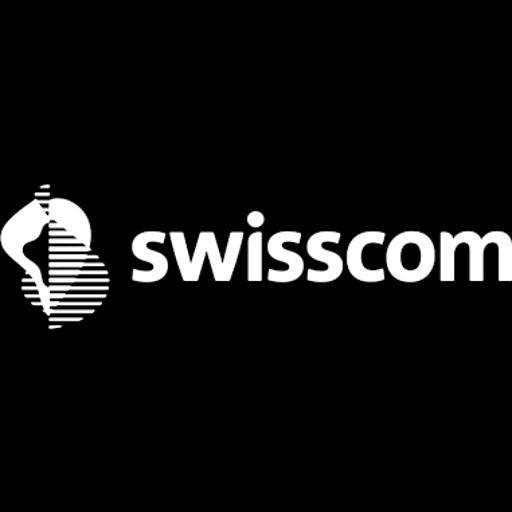Swisscom IT Services AG: (0, 167, 512, 344)
